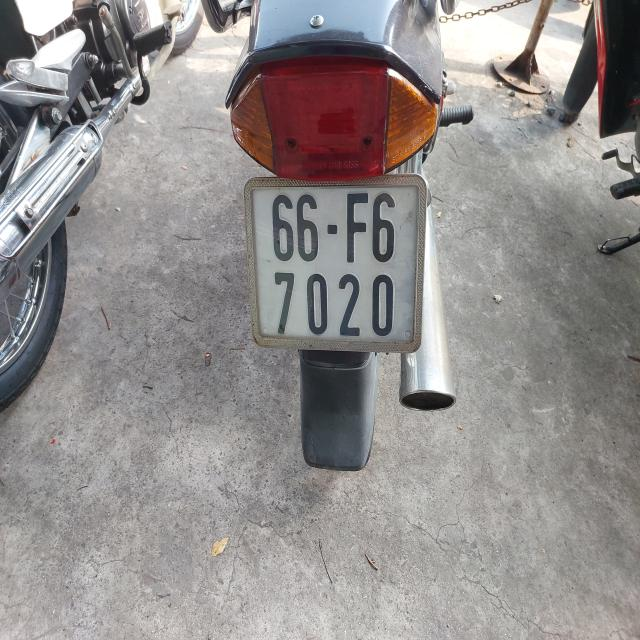0: (302, 271, 328, 340), (371, 272, 394, 335)
2: (334, 272, 362, 340)
6: (373, 189, 398, 266), (270, 194, 296, 262), (296, 194, 319, 266)
7: (271, 269, 296, 335)
F: (339, 191, 372, 265)
